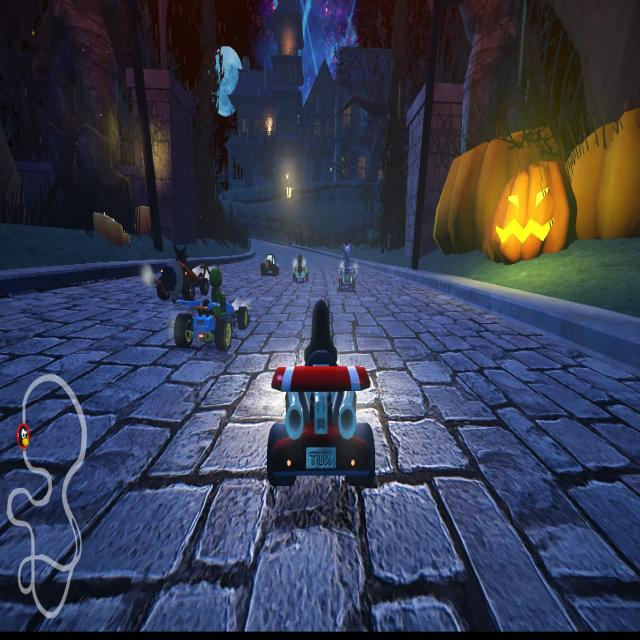enemy_kart: (176, 273, 253, 353), (327, 241, 367, 295), (250, 250, 280, 282), (289, 248, 309, 288)
player_kart: (266, 292, 380, 508)
